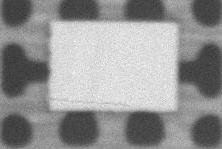DIE_CRACK: (74, 66, 192, 70)
